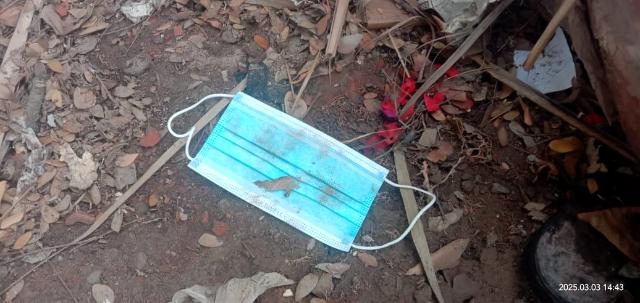mask: (185, 84, 397, 256)
